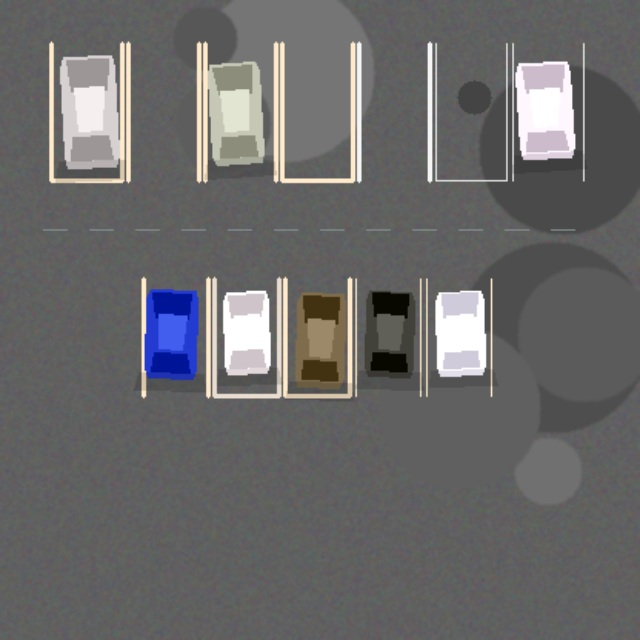space-empty: (358, 43, 429, 180), (435, 43, 506, 180), (128, 43, 198, 180), (282, 43, 352, 180)
space-occupied: (51, 43, 122, 180), (512, 43, 583, 180), (205, 43, 275, 180), (143, 278, 208, 395), (355, 278, 420, 395), (426, 278, 491, 395), (214, 278, 278, 395), (285, 278, 349, 395)
